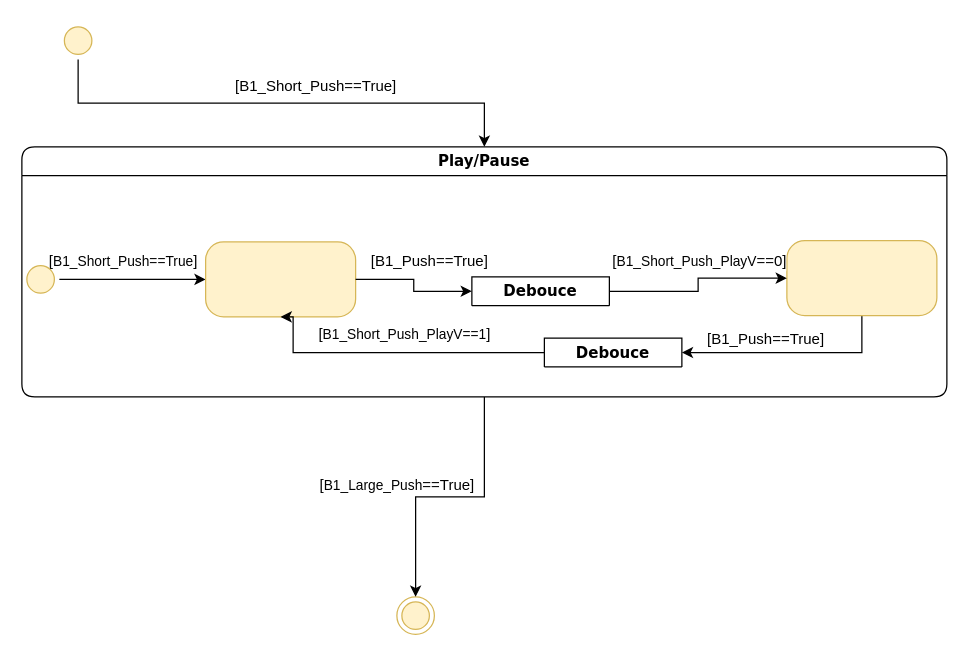
The diagram is 969 pixels wide and 656 high, and some of its shapes have lost their labels. Here are the shapes that lost their labels. From the top down, the centre of each, then its label:
point (280, 279): Play
point (861, 277): Pause
